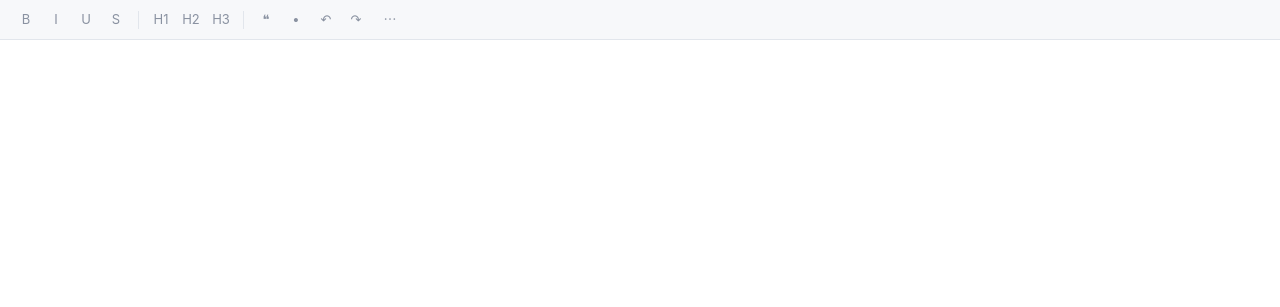
Test: EditorToolbar（编辑菜单空间管控：不同窗口尺寸 / 侧栏拖拽后） › 窄屏（460px）：核心工具保留内联，低频工具折叠进「更多」并可访问
Expected: the button "B" is shown, x1=12 y1=6 x2=40 y2=34
Expected: the button "H1" is shown, x1=147 y1=6 x2=175 y2=34
# 「更多」悬浮菜单可访问全部折叠项
Click the button "⋯".
click(390, 20)  # box x1=376 y1=6 x2=404 y2=34
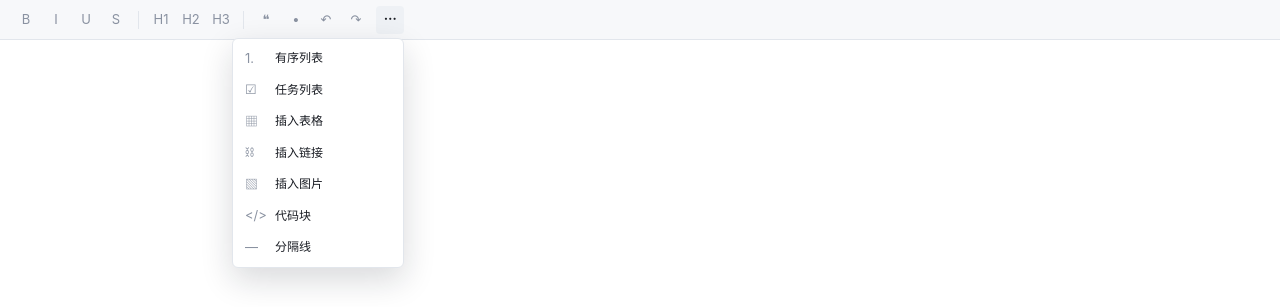
Result: the text "分隔线" is shown at x1=275 y1=238 x2=311 y2=256
Result: the text "任务列表" is shown at x1=275 y1=81 x2=323 y2=99
